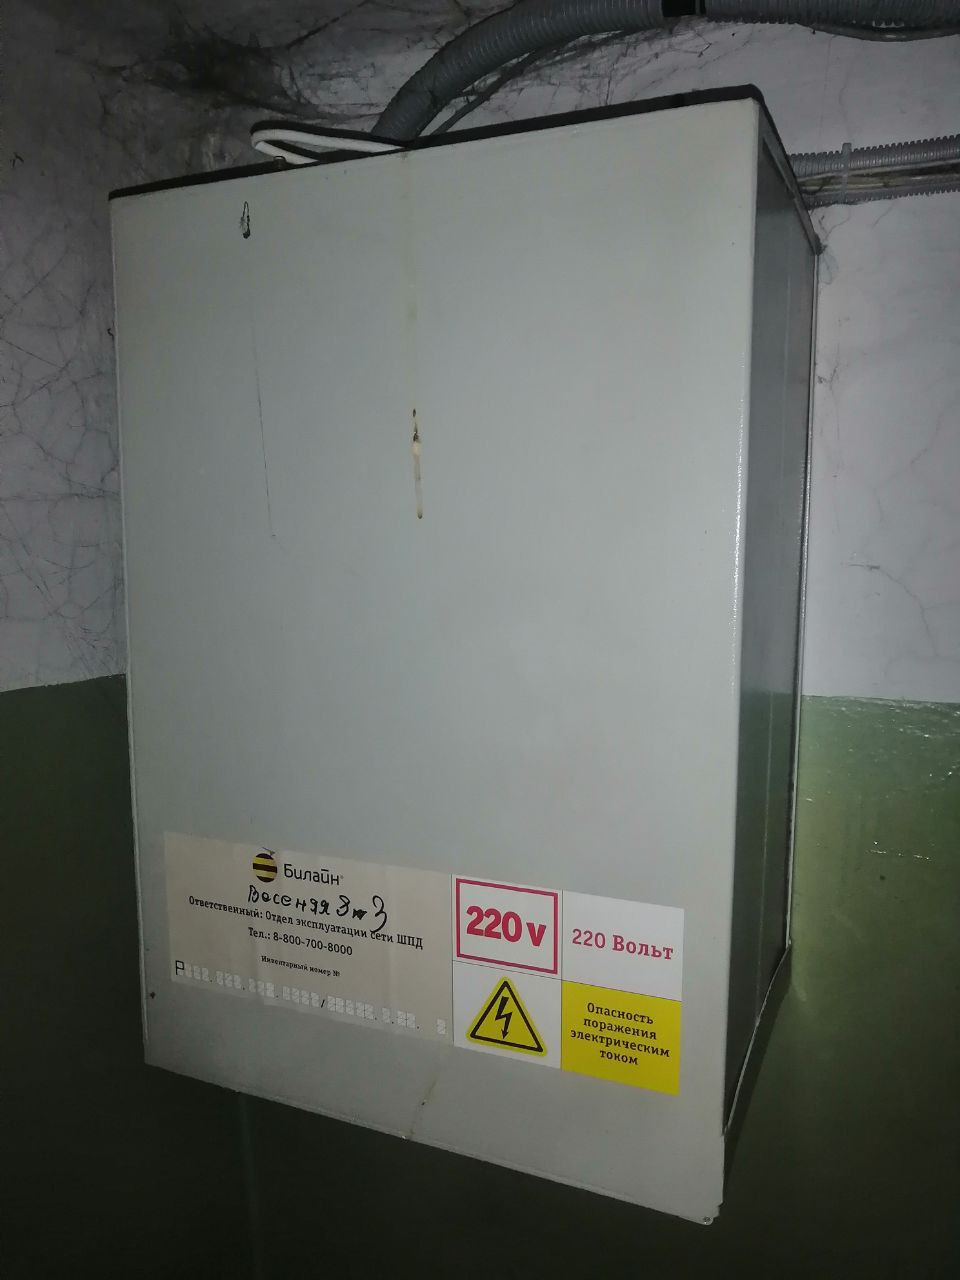sv-5: (95, 75, 838, 1232)
